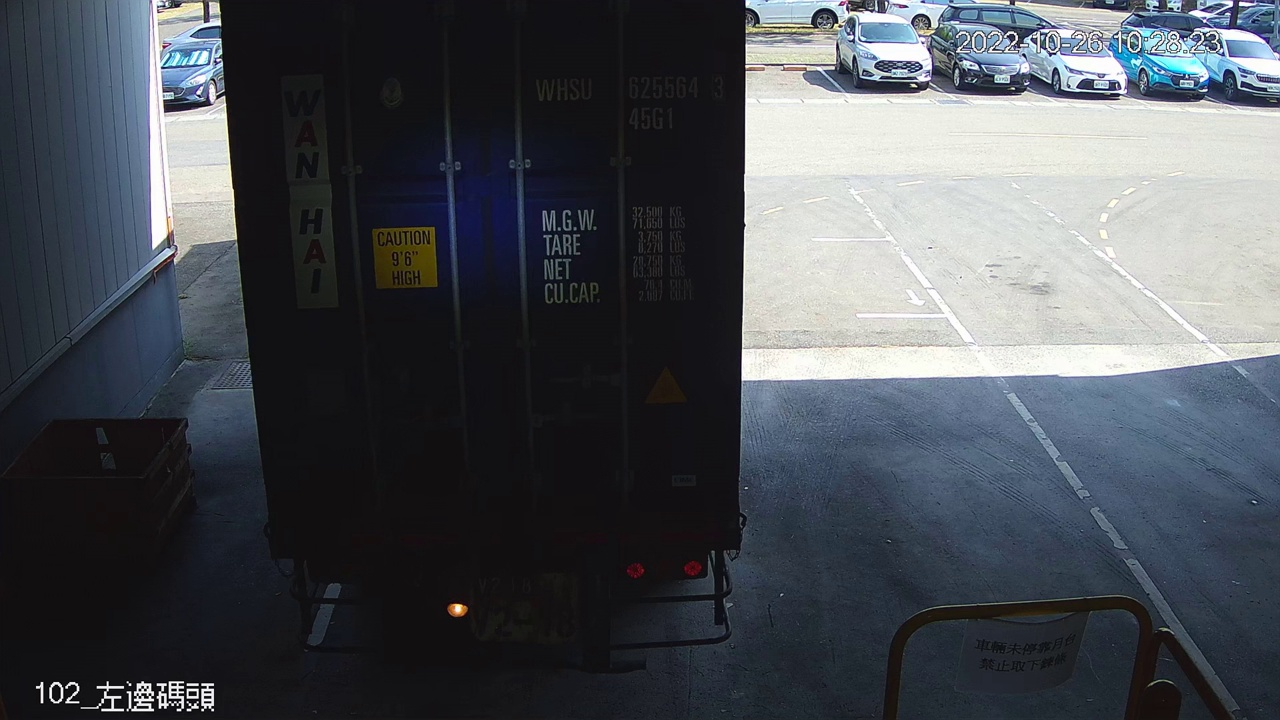container: (525, 67, 732, 138)
